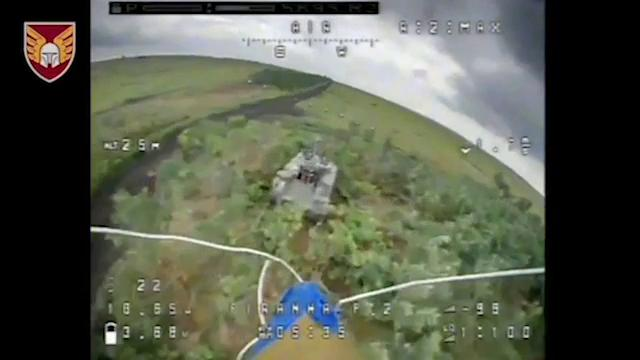tank: (267, 135, 339, 231)
